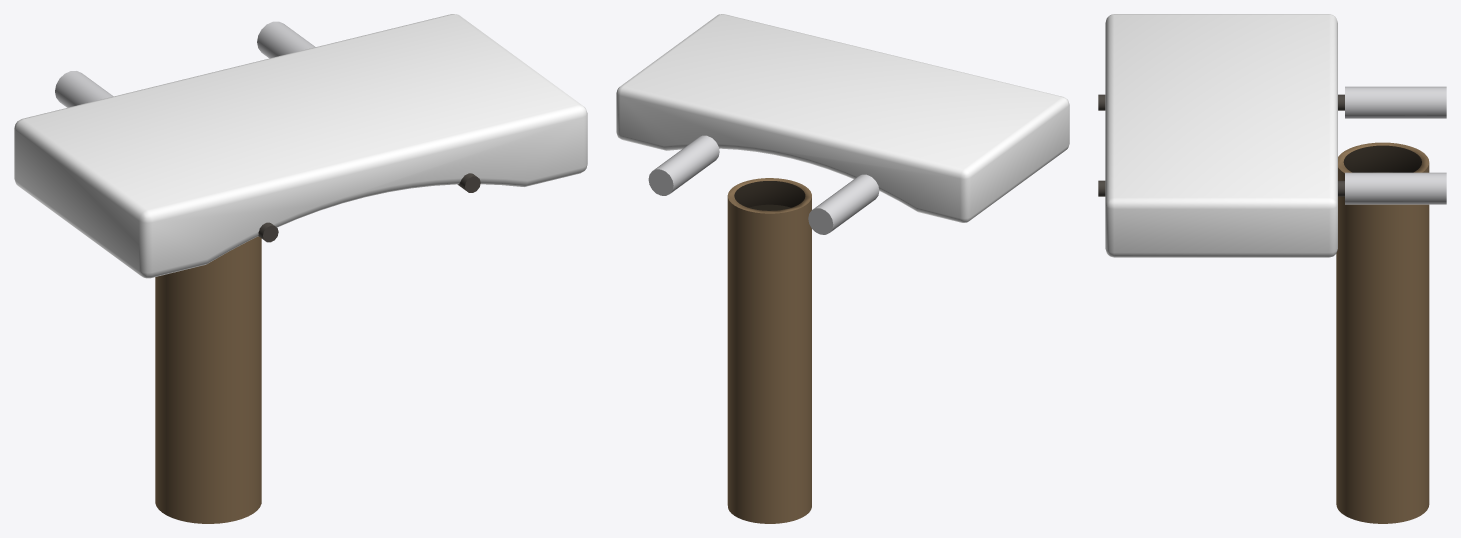
3 views of the same model, side by side, from view 1: azimuth 30°, elevation 25°; view 2: azimuth 150°, elevation 25°; view 3: azimuth 270°, elevation 25° (orthographic). The views are drawn at different scales.
Visible parts, largest first — view 1: marimba_default; view 2: marimba_default; view 3: marimba_default.
Part boxes in pixels (box(x1,y1,x2,y2)): marimba_default: box(14, 14, 587, 523); marimba_default: box(616, 14, 1069, 523); marimba_default: box(1098, 14, 1446, 523).
Size of the model in its own units: 0.62 by 0.605 by 0.48.
